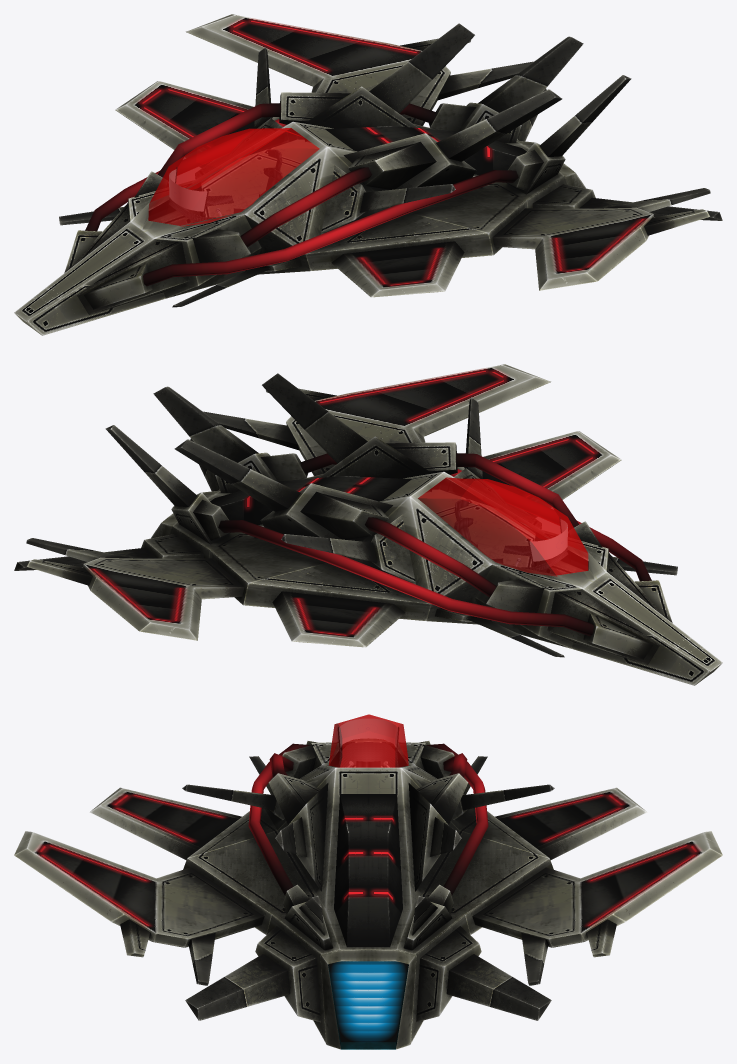
Rendered from VR5NewShipandHUD.fbx.
3 views of the same model, one above another, from view 1: azimuth 30°, elevation 25°; view 2: azimuth 150°, elevation 25°; view 3: azimuth 270°, elevation 25° (orthographic). The views are drawn at different scales.
Parts seen in each view (by area): view 1: alien_spacecraft_5, pCube1, polySurface17; view 2: alien_spacecraft_5, pCube1, polySurface17; view 3: alien_spacecraft_5, pCube1, polySurface17, polySurface16.
Boxes of the visible parts, x1,y1,x2,y2 form: alien_spacecraft_5: [14, 14, 722, 335]; pCube1: [148, 128, 319, 226]; polySurface17: [169, 169, 206, 211]; alien_spacecraft_5: [14, 364, 722, 685]; pCube1: [418, 477, 588, 576]; polySurface17: [530, 519, 567, 561]; alien_spacecraft_5: [14, 738, 722, 1049]; pCube1: [328, 714, 408, 767]; polySurface17: [339, 719, 397, 745]; polySurface16: [338, 742, 398, 767].
Size of the model in its own units: 168 by 49.28 by 173.
8 materials, 6 textured.
